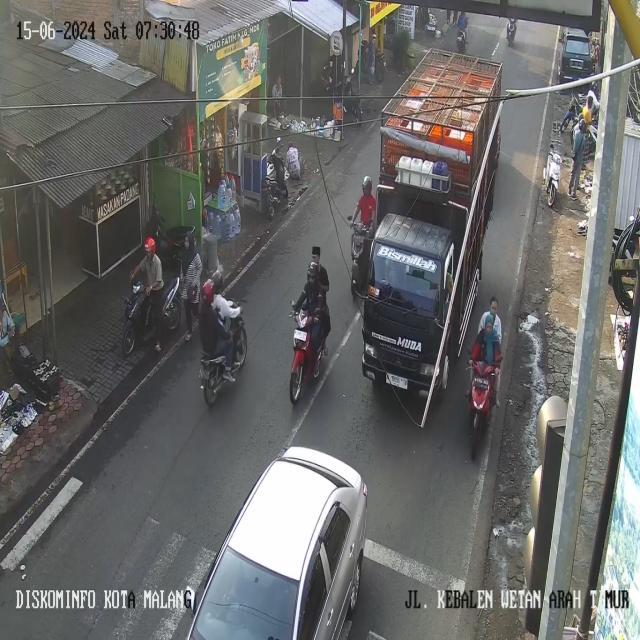Helmet: (201, 279, 214, 304), (211, 270, 222, 290), (307, 262, 318, 280), (581, 106, 592, 124), (144, 236, 155, 253), (362, 176, 372, 194), (579, 118, 586, 132)
Number Plate: (386, 374, 407, 389), (294, 329, 306, 340)
